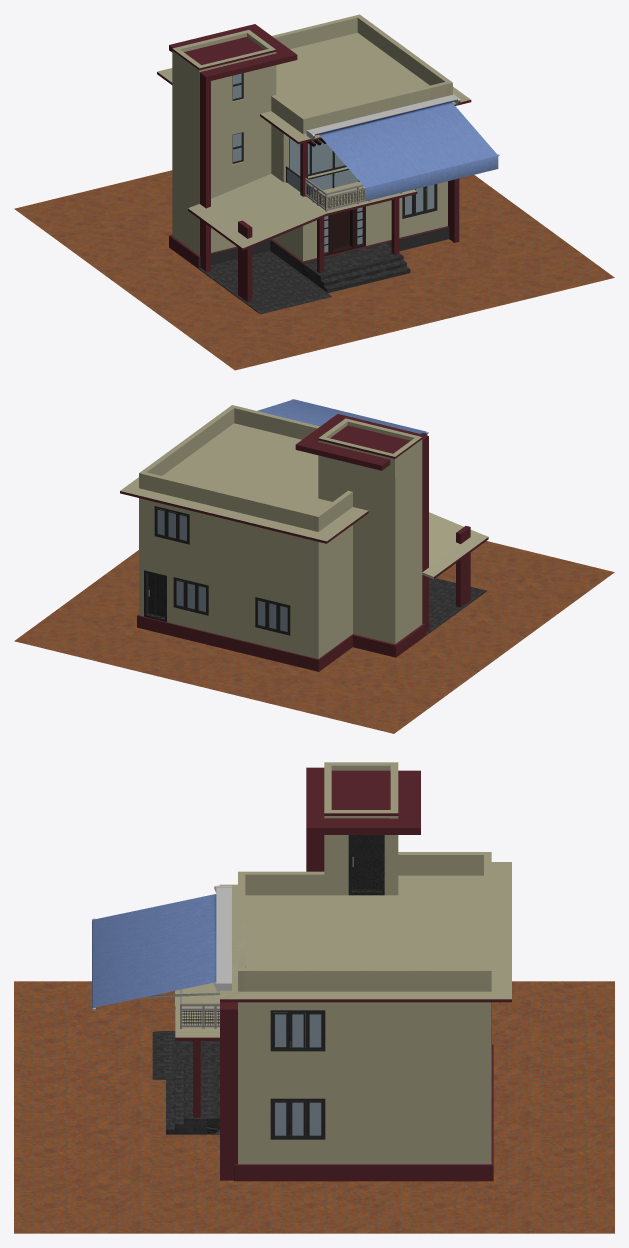
Rendered from iot-transformed2.glb.
3 views of the same model, one above another, from view 1: azimuth 30°, elevation 25°; view 2: azimuth 150°, elevation 25°; view 3: azimuth 270°, elevation 25° (orthographic). The views are drawn at different scales.
Parts seen in each view (by area): view 1: Plane_landscape tiles_0, Plane.008_wall paint_0, Object_2, shade 02_shades brown_0, Cube.047_ floor Ceramic Black Tiles _0, Cube.046_ floor Ceramic Black Tiles _0, Plane.008_shades brown_0, Cube.045_ floor Ceramic Black Tiles _0, Cube.064_Multicoated glass_0, piller 1_shades brown_0, Cube.045_shades brown_0, Cube.049_ door shade Wood 4_0 (+4 smaller); view 2: Plane.008_wall paint_0, Plane_landscape tiles_0, shade 02_shades brown_0, Cube.045_shades brown_0, Object_2, Cube.047_ floor Ceramic Black Tiles _0, Plane.008_shades brown_0, piller 1_shades brown_0, Cube.054_window Brushed Dark Metal_0, Cube.080_Multicoated glass_0, Cube.076_Multicoated glass_0, Cube.078_Multicoated glass_0; view 3: Plane_landscape tiles_0, Plane.008_wall paint_0, Object_2, shade 02_shades brown_0, Cube.045_shades brown_0, Cube.046_ floor Ceramic Black Tiles _0, shade 01_shades brown_0, Plane.008_shades brown_0, Cube.047_ floor Ceramic Black Tiles _0, Cube.002_window Brushed Dark Metal_0, Cube.073_Multicoated glass_0, Cube.071_Multicoated glass_0 (+5 smaller).
Part boxes in pixels (x1,y1,x2,y2): Plane_landscape tiles_0: (14, 170, 614, 370); Plane.008_wall paint_0: (157, 14, 470, 261); Object_2: (306, 94, 499, 201); shade 02_shades brown_0: (169, 24, 297, 271); Cube.047_ floor Ceramic Black Tiles _0: (198, 251, 331, 314); Cube.046_ floor Ceramic Black Tiles _0: (302, 243, 410, 292); Plane.008_shades brown_0: (157, 49, 471, 273); Cube.045_ floor Ceramic Black Tiles _0: (198, 227, 449, 273); Cube.064_Multicoated glass_0: (290, 138, 344, 175); piller 1_shades brown_0: (238, 220, 252, 301); Cube.045_shades brown_0: (169, 226, 448, 268); Cube.049_ door shade Wood 4_0: (324, 206, 365, 256); Plane.008_wall paint_0: (120, 405, 488, 658); Plane_landscape tiles_0: (14, 541, 614, 733); shade 02_shades brown_0: (295, 414, 428, 632); Cube.045_shades brown_0: (137, 583, 425, 671); Object_2: (257, 399, 428, 435); Cube.047_ floor Ceramic Black Tiles _0: (425, 577, 487, 635); Plane.008_shades brown_0: (120, 437, 488, 578); piller 1_shades brown_0: (456, 526, 470, 607); Cube.054_window Brushed Dark Metal_0: (148, 573, 164, 616); Cube.080_Multicoated glass_0: (157, 509, 186, 540); Cube.076_Multicoated glass_0: (176, 581, 205, 611); Cube.078_Multicoated glass_0: (258, 600, 287, 631); Plane_landscape tiles_0: (14, 981, 614, 1233); Plane.008_wall paint_0: (175, 762, 511, 1164); Object_2: (92, 885, 231, 1010); shade 02_shades brown_0: (306, 767, 420, 871); Cube.045_shades brown_0: (234, 1044, 493, 1181); Cube.046_ floor Ceramic Black Tiles _0: (166, 1063, 219, 1134); shade 01_shades brown_0: (220, 1002, 237, 1180); Plane.008_shades brown_0: (175, 813, 511, 1117); Cube.047_ floor Ceramic Black Tiles _0: (152, 1031, 219, 1079); Cube.002_window Brushed Dark Metal_0: (351, 835, 381, 889); Cube.073_Multicoated glass_0: (275, 1102, 321, 1135); Cube.071_Multicoated glass_0: (275, 1014, 321, 1047).
Size of the model in its own units: 19.82 by 9.94 by 19.96.
6 materials, 6 textured.
